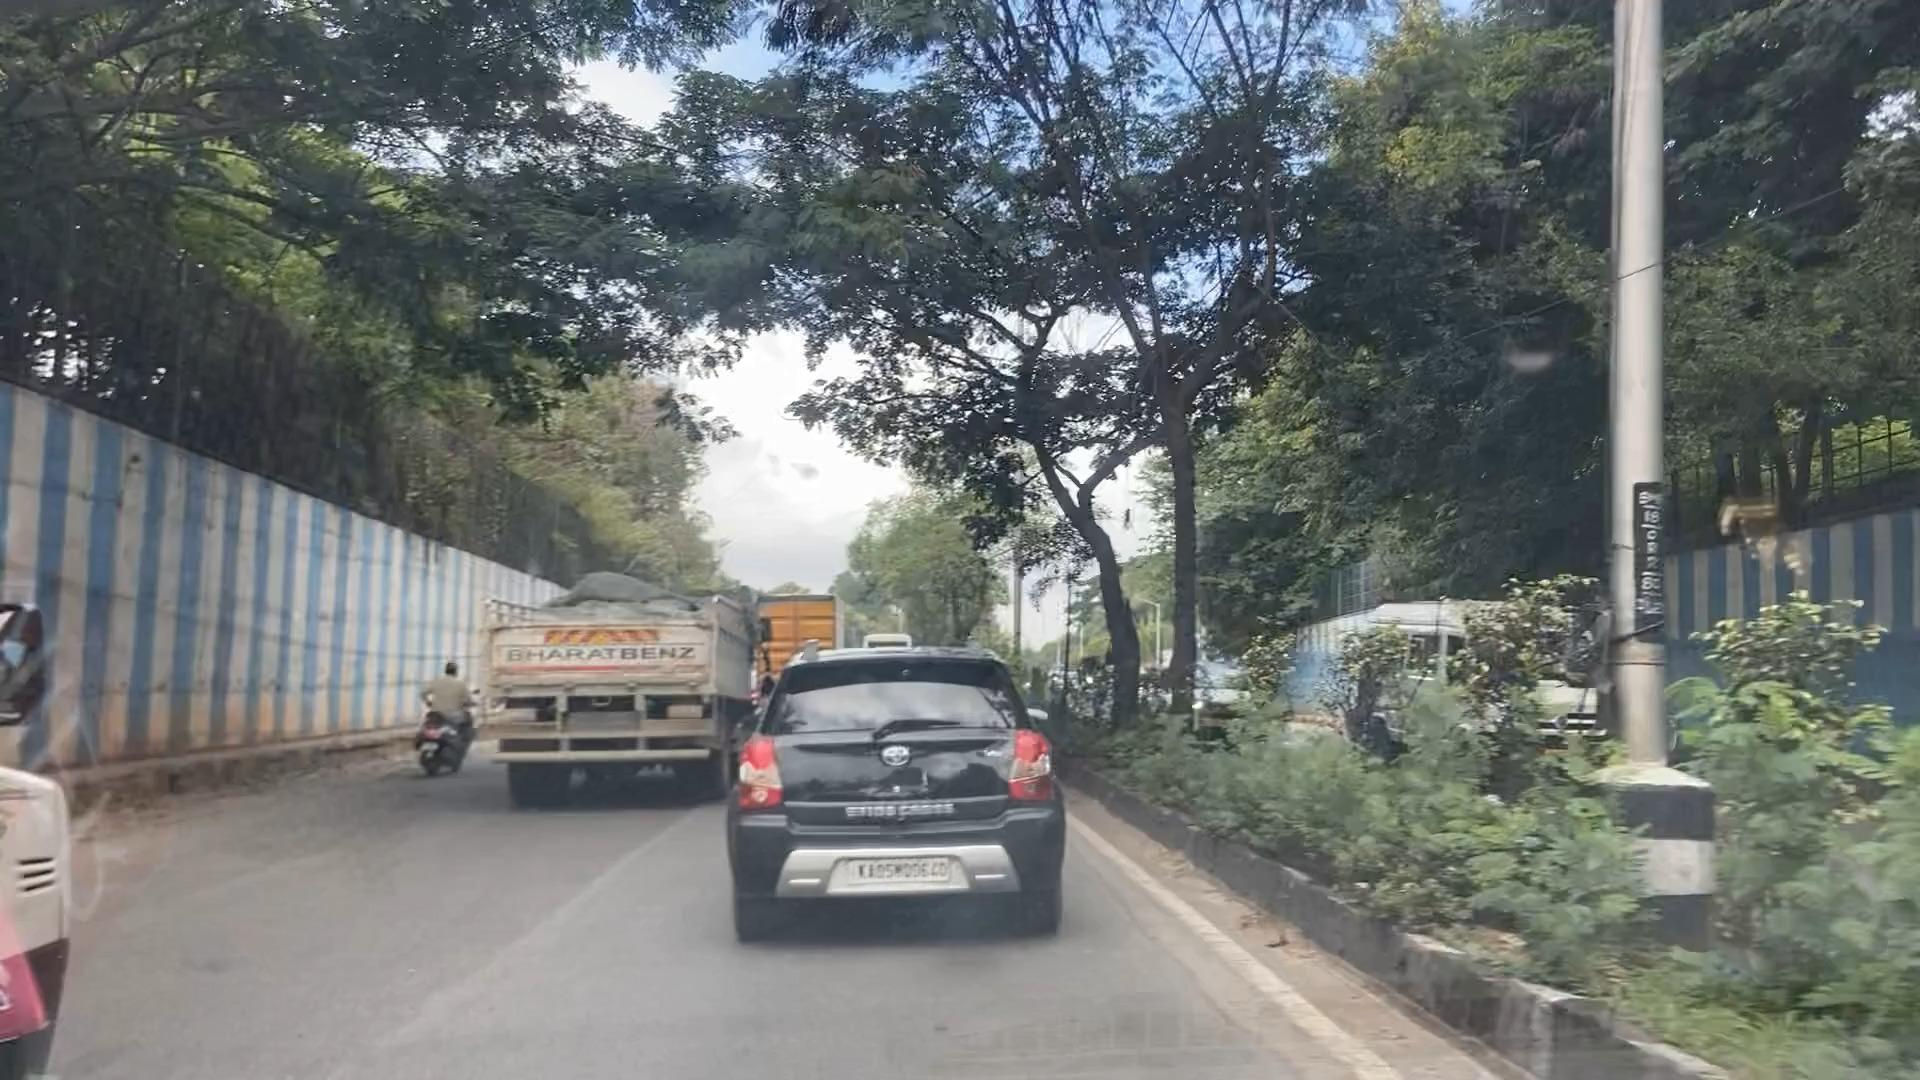HMV: (0, 355, 218, 1080), (481, 525, 770, 837)
LMV: (707, 608, 1130, 992), (405, 651, 484, 800)
